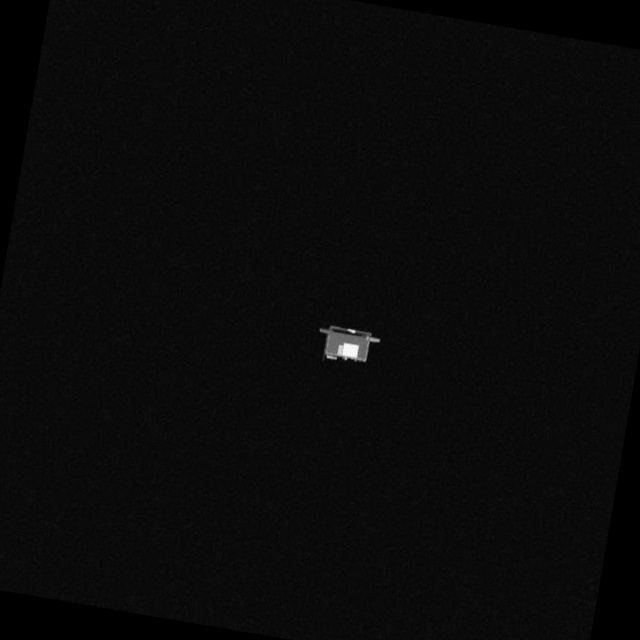medium_debris: (311, 314, 386, 372)
